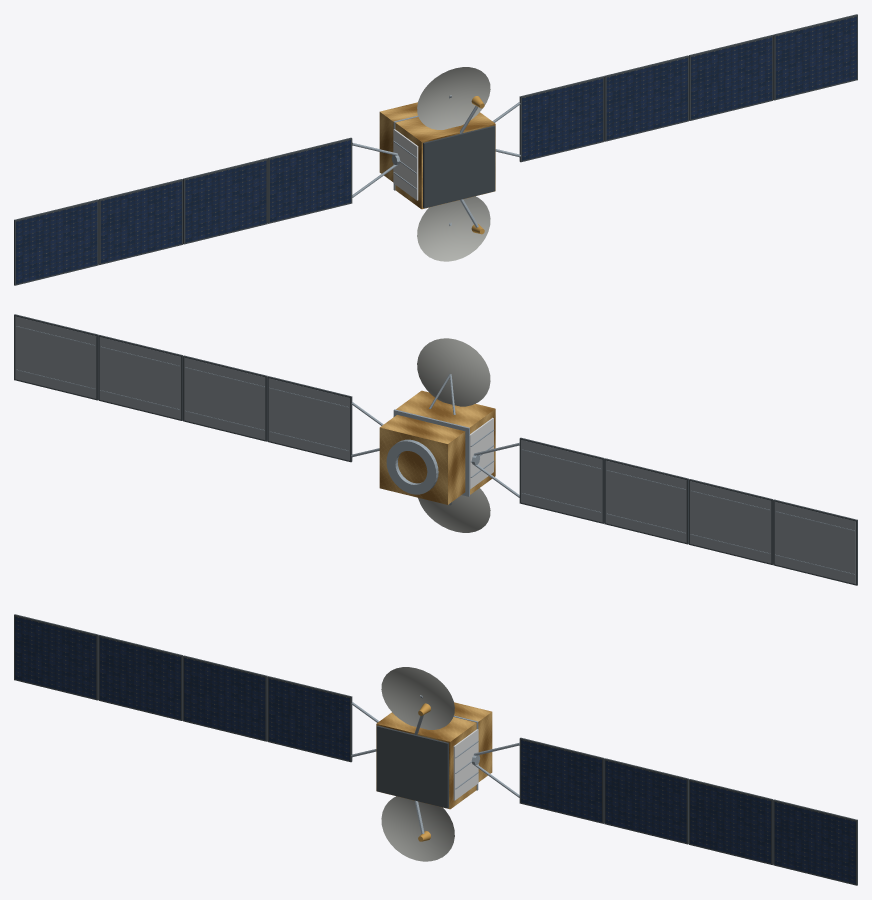
File: ssl-1300-db-broadcast.glb
3 renders of one model, top to bottom at view 1: azimuth 30°, elevation 25°; view 2: azimuth 150°, elevation 25°; view 3: azimuth 330°, elevation 25°, orthographic.
Visible parts, largest first — view 1: Solar cell panel (×8), Communications reflector (×2), Solar panel frame (×8), Earth-facing deck, Payload module, Radiator face, Service module; view 2: Rear array substrate (×8), Communications reflector (×2), Solar panel frame (×8), Service module, Payload module, Launch adapter ring, Radiator face, Module interface; view 3: Solar cell panel (×8), Communications reflector (×2), Solar panel frame (×8), Earth-facing deck, Payload module, Radiator face, Service module.
Part boxes in pixels (bbox=[...]): Solar cell panel (×8): bbox=[16, 16, 856, 284]; Communications reflector (×2): bbox=[417, 67, 490, 261]; Solar panel frame (×8): bbox=[14, 14, 857, 285]; Earth-facing deck: bbox=[423, 125, 495, 208]; Payload module: bbox=[395, 112, 495, 209]; Radiator face: bbox=[393, 129, 418, 200]; Service module: bbox=[379, 102, 417, 181]; Rear array substrate (×8): bbox=[15, 316, 855, 584]; Communications reflector (×2): bbox=[417, 338, 490, 532]; Solar panel frame (×8): bbox=[14, 314, 857, 585]; Service module: bbox=[379, 415, 465, 504]; Payload module: bbox=[396, 390, 495, 494]; Launch adapter ring: bbox=[386, 439, 438, 494]; Radiator face: bbox=[469, 417, 493, 489]; Module interface: bbox=[393, 409, 469, 496]; Solar cell panel (×8): bbox=[15, 616, 855, 884]; Communications reflector (×2): bbox=[381, 667, 454, 861]; Solar panel frame (×8): bbox=[14, 614, 857, 885]; Earth-facing deck: bbox=[376, 725, 448, 808]; Payload module: bbox=[376, 712, 476, 809]; Radiator face: bbox=[453, 729, 478, 800]; Service module: bbox=[454, 702, 492, 781].
Size of the model in its own units: 27.27 by 5.94 by 3.11.
Materials: 8 (2 with a texture image).
